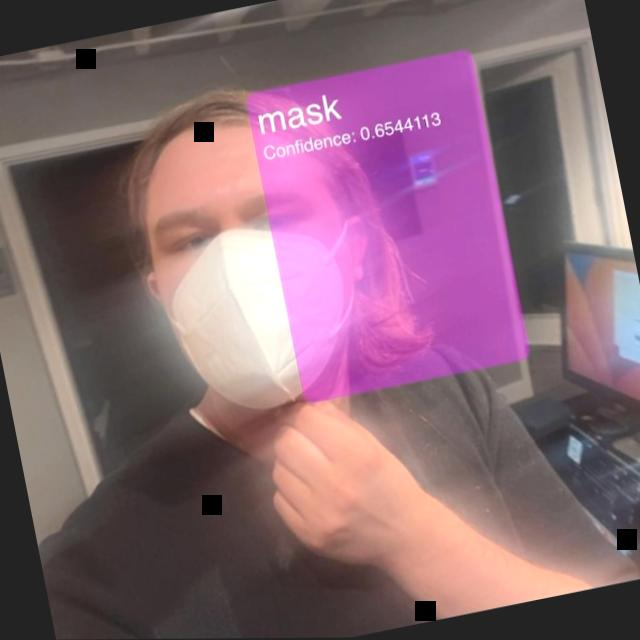Mask: (90, 25, 442, 447)
